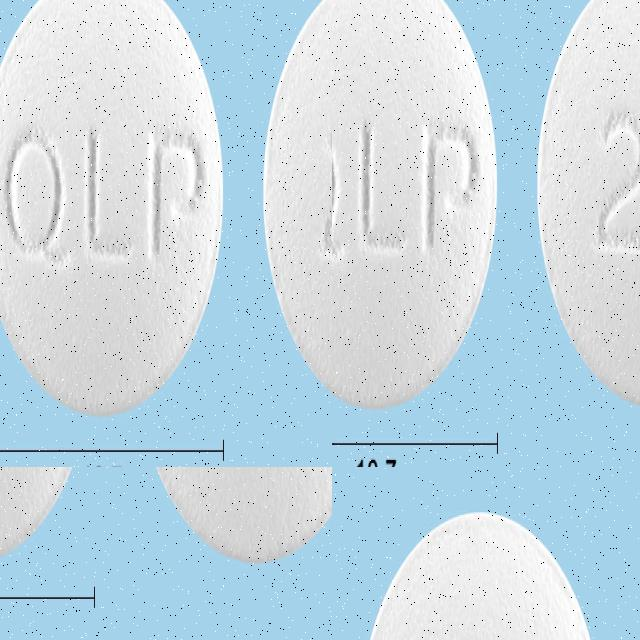Bydoxy: (0, 0, 227, 428), (259, 0, 332, 426)
Cefick Cap: (332, 269, 599, 467)
Clithocin: (0, 467, 139, 567)
Cyrus: (356, 506, 605, 640)
